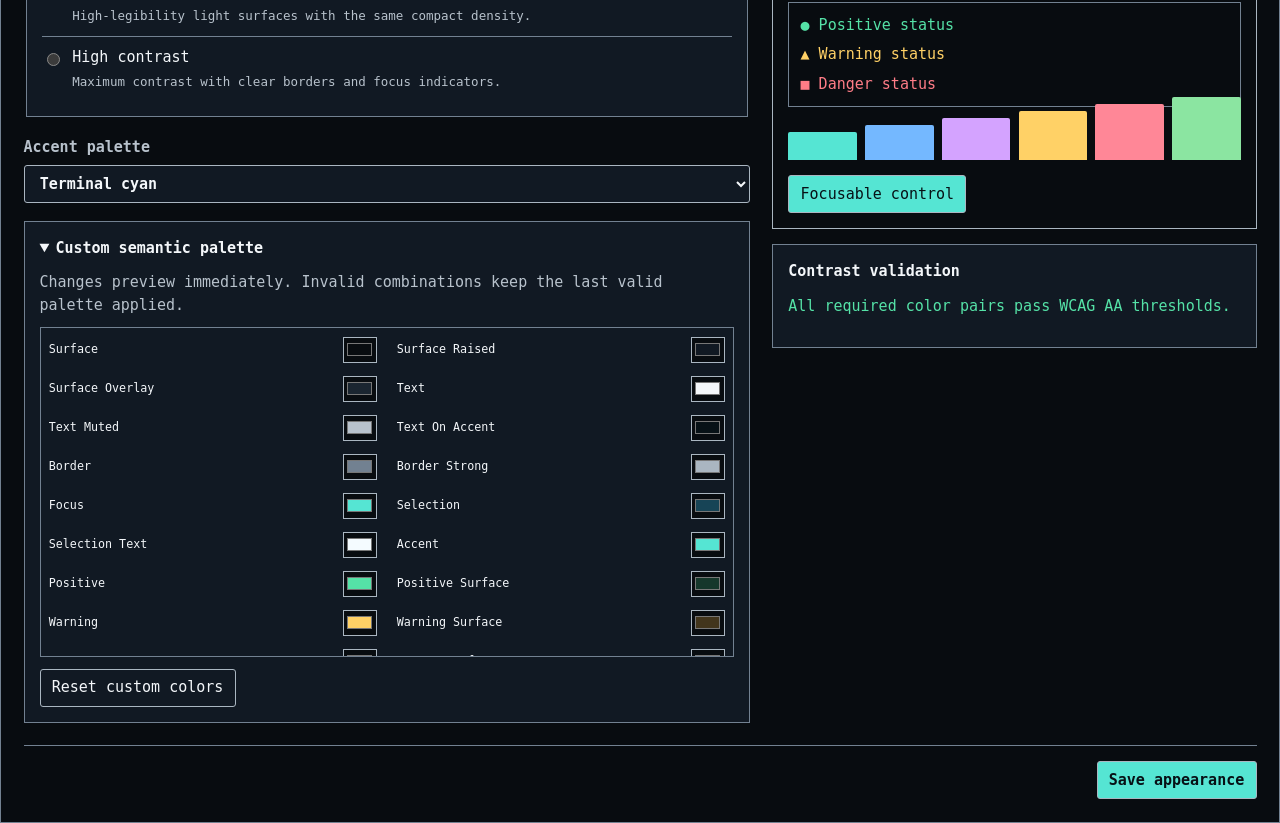
Test: AppearanceSettings › surfaces a conflict with no current record while preserving the draft
This screenshot has width=1280, height=823.
(page scrolled)
What coordinates should you click on to do the following:
click the button "Save appearance"
I would click on:
 (1176, 780)
Its box is [1096,761,1256,799].
(page scrolled)
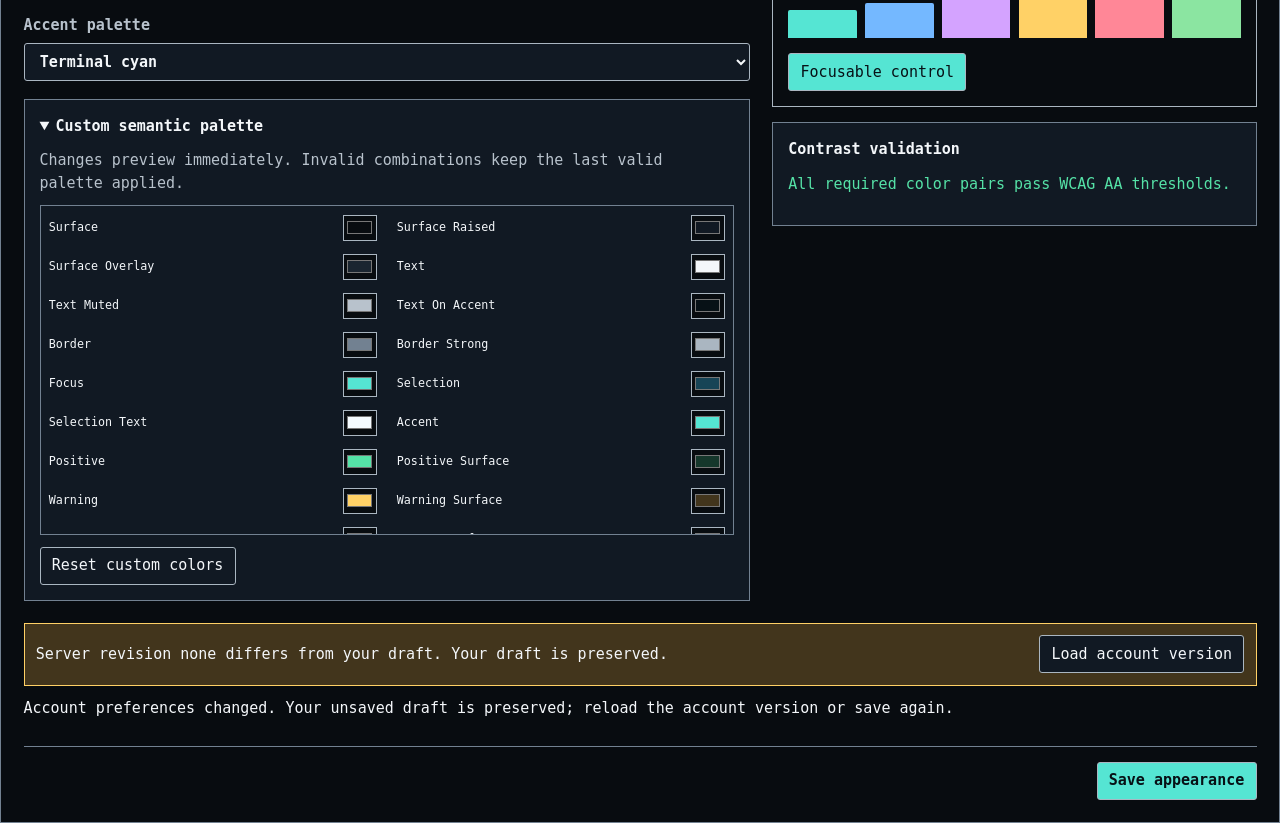
Expected: the text "Server revision none differs from your draft" is shown, [36,643,668,666]
